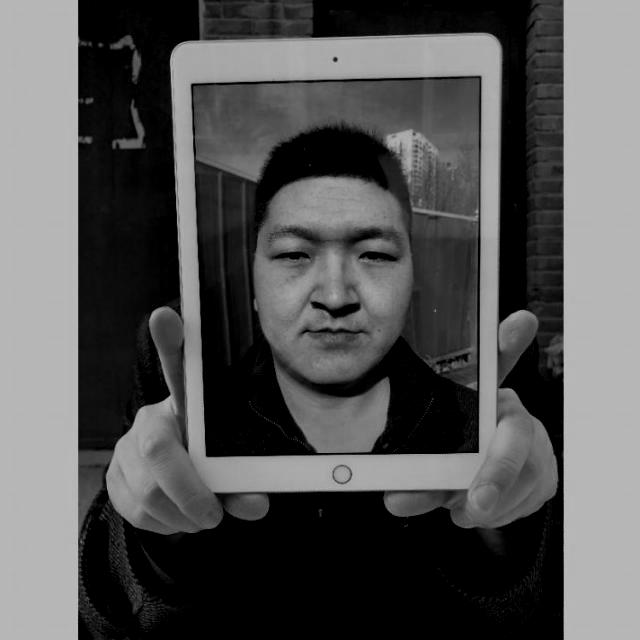fake: (168, 28, 504, 498)
